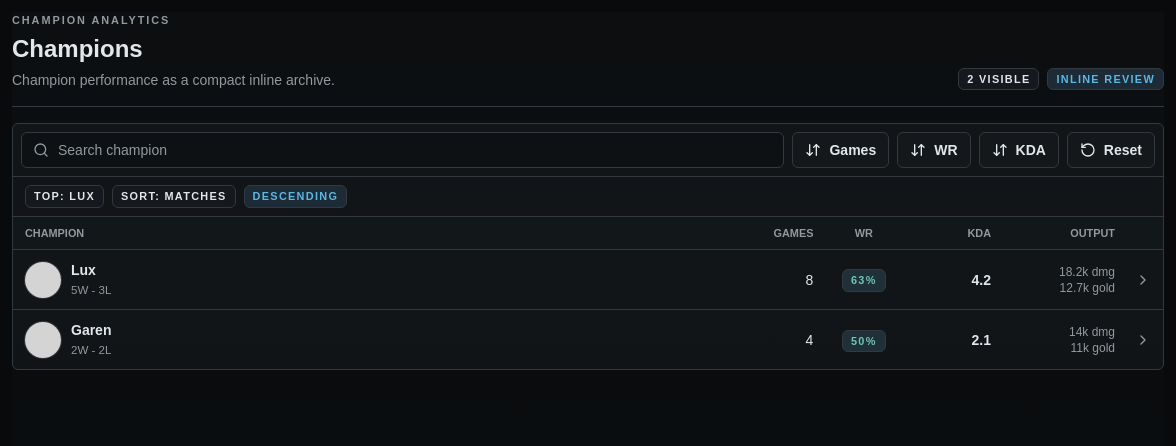
ChampionsPage › filters champions and opens inline details from a focusable row
Type "lux" into the field labelled "Search champion" at coordinates (403, 150), box [21, 132, 784, 168]
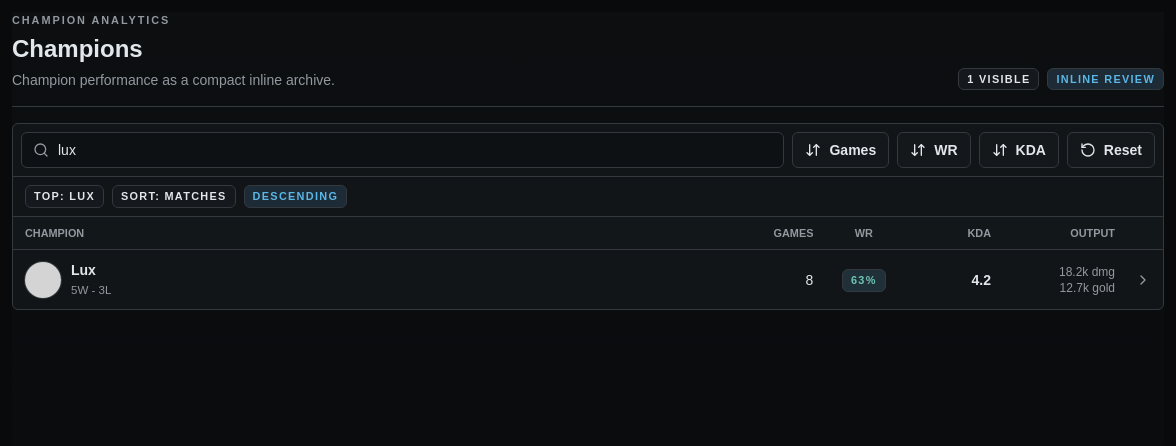
Expected: the button "Garen" is gone
Click the button "Lux 5W - 3L 8 63% 4.2 18.2k dmg 12.7k gold" at coordinates (43, 280), box [13, 250, 1163, 309]
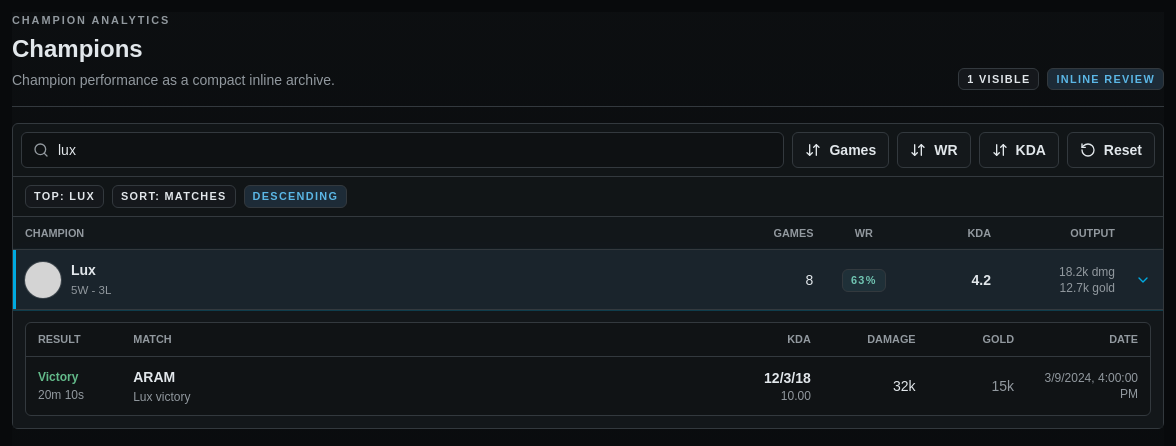
Expected: the text "Lux victory" is shown, [133, 390, 191, 404]
Expected: the text "12/3/18" is shown, [764, 370, 811, 386]
Expected: the text "Victory 20m 10s" is shown, [38, 370, 84, 402]
